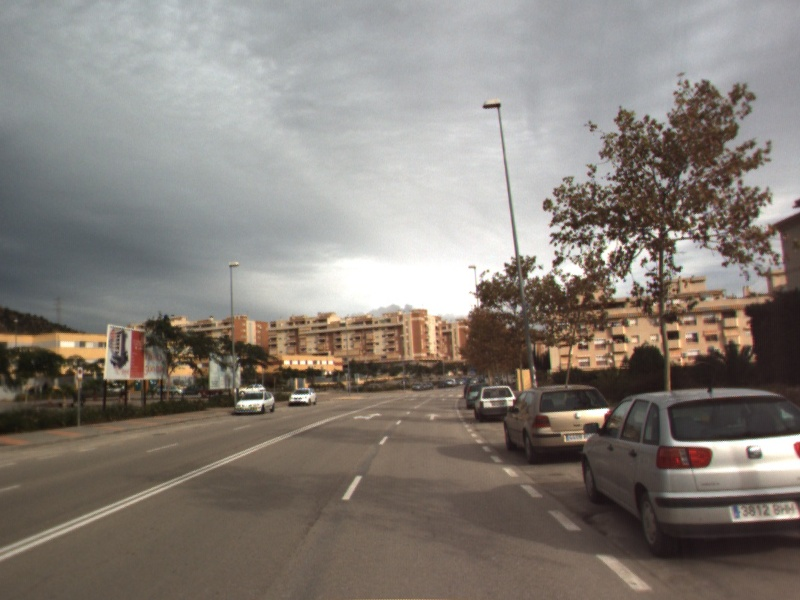STRAIGHT: (422, 410, 443, 422)
STRAIGHT_LEFT: (350, 410, 385, 422)
